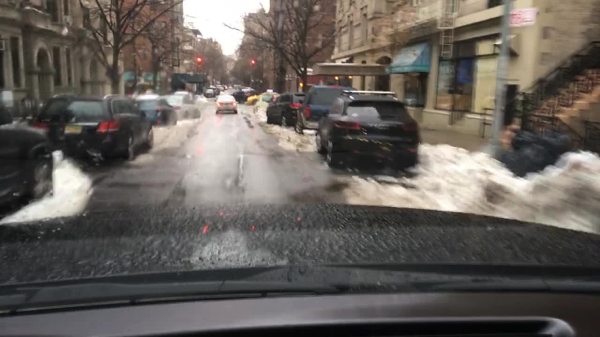car: (315, 90, 418, 170), (33, 93, 154, 160), (0, 105, 54, 214), (294, 86, 356, 134), (133, 93, 180, 127), (279, 91, 305, 126), (164, 95, 200, 120), (247, 89, 281, 106), (266, 95, 284, 125), (213, 95, 238, 115), (233, 89, 256, 103), (175, 90, 194, 103), (205, 89, 214, 98), (214, 88, 221, 96), (234, 83, 240, 90), (215, 86, 222, 89), (228, 85, 233, 89), (224, 84, 227, 90)
traffic light: (250, 59, 255, 66), (196, 57, 200, 65), (300, 82, 302, 87)
traffic sign: (507, 8, 536, 25)
